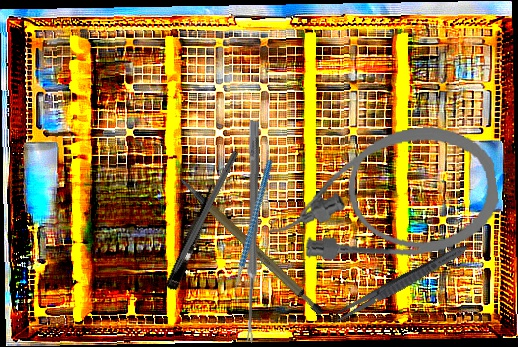Cannula: (257, 118, 505, 275)
Chopper: (189, 158, 319, 308)
Dressing Forceps: (326, 239, 471, 330)
Hook Surgical: (161, 149, 239, 291)
Micro Scissor: (164, 176, 224, 293)
Scalpel Handle: (176, 155, 328, 333)
Surgical Spoon: (244, 120, 260, 343)
